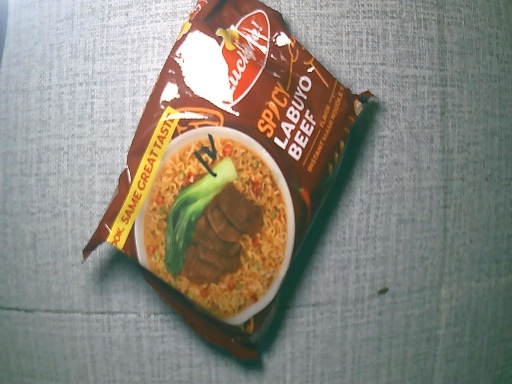plastic: (78, 1, 373, 370)
